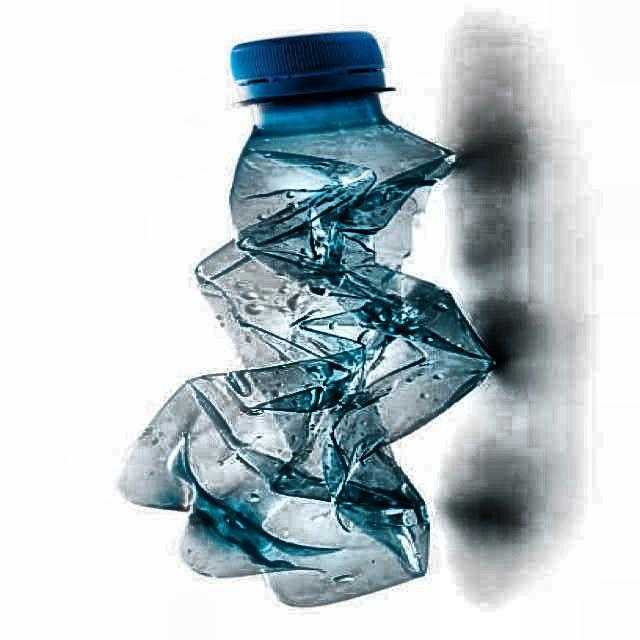plastic: (121, 32, 495, 606)
